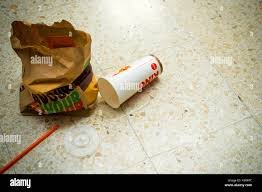cardboard: (8, 15, 99, 116)
plastic: (98, 49, 166, 115), (0, 122, 62, 174), (61, 126, 105, 152)
